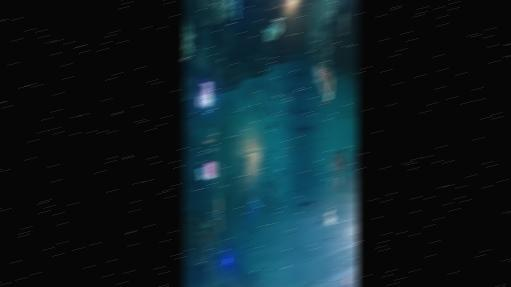Fish: (314, 64, 333, 105), (264, 18, 283, 41), (299, 197, 316, 210), (330, 171, 341, 190), (348, 169, 357, 190), (330, 153, 339, 171), (340, 13, 347, 35), (339, 150, 346, 171), (353, 150, 358, 170), (326, 210, 333, 224), (265, 183, 272, 197), (234, 1, 239, 20), (270, 175, 277, 187), (256, 101, 263, 112), (267, 105, 274, 116), (287, 90, 292, 105), (244, 93, 251, 103), (266, 197, 273, 207), (351, 277, 358, 286), (254, 80, 259, 91), (344, 277, 350, 286), (270, 89, 275, 99), (267, 83, 272, 92), (269, 121, 274, 129), (248, 105, 253, 113), (260, 82, 265, 90), (298, 127, 311, 130), (305, 203, 310, 210)
